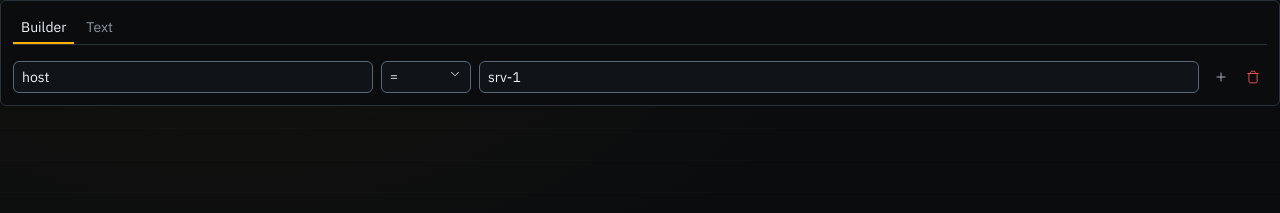
Test: ConditionEditor — text mode › toggles Builder → Text and shows encoded value
Click the tab "Text": click(100, 28) [78, 13, 121, 44]
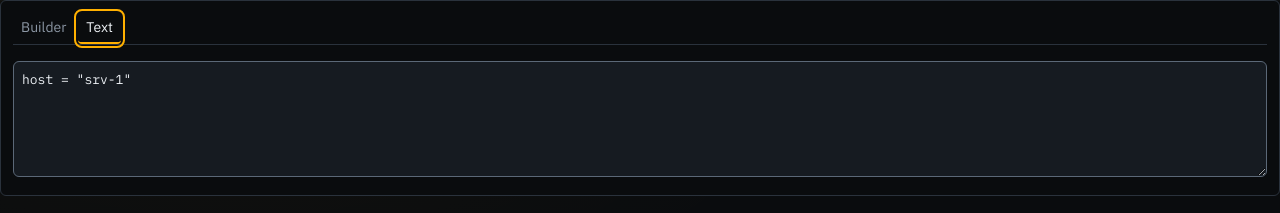
Check: the text box named "condition text" holds "host = \"srv-1\"", box [13, 61, 1267, 176]
